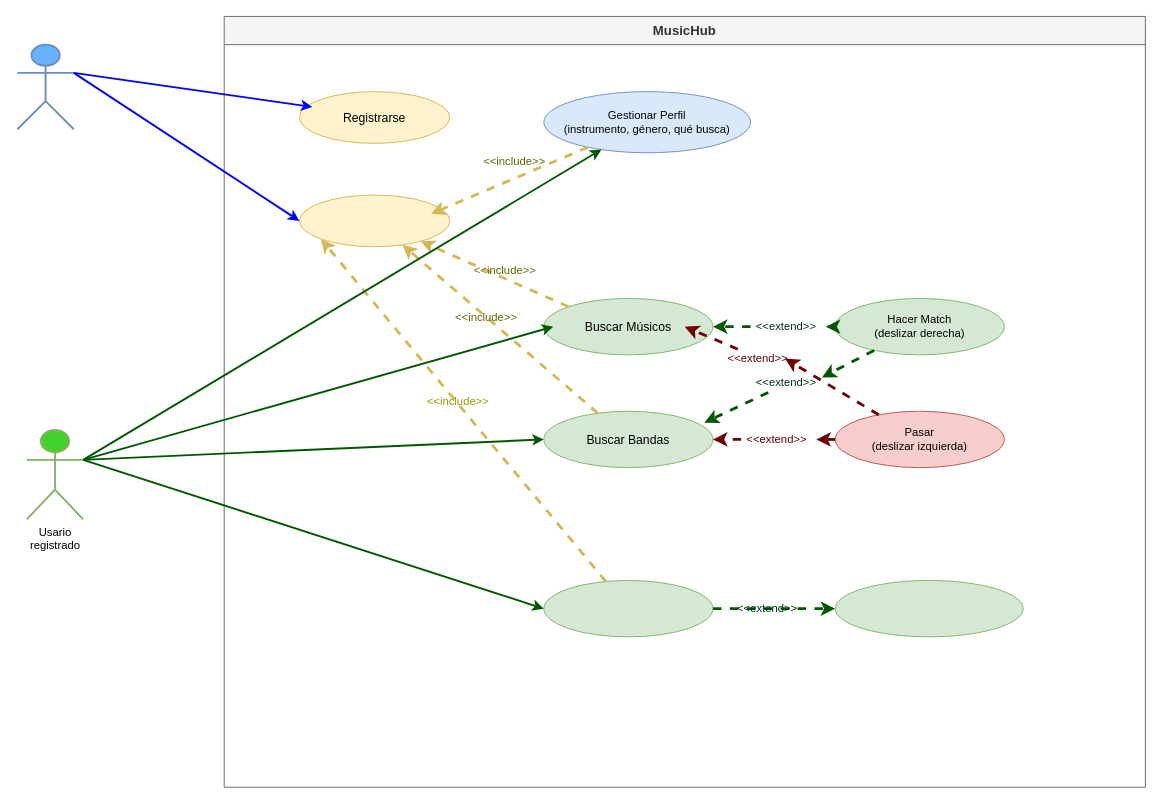
This 1162x804 diagram has some shape labels left out. The shapes that lost their labels are listed below. From the top down, each one's centre as x and y in pixels, then its label:
At (x=45, y=86): "Visitante".
At (x=374, y=220): "Iniciar Sesión".
At (x=628, y=608): "Ver Matches".
At (x=928, y=608): "Escribir a Músico/Banda".
